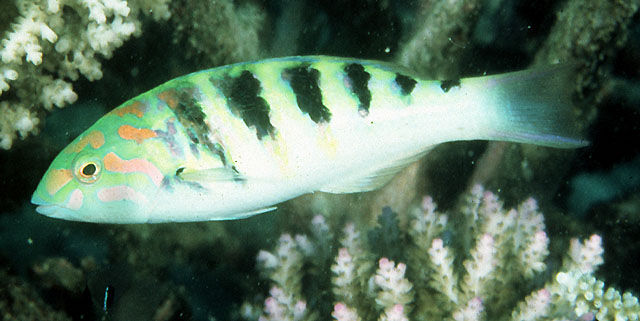fish: (30, 54, 591, 224)
